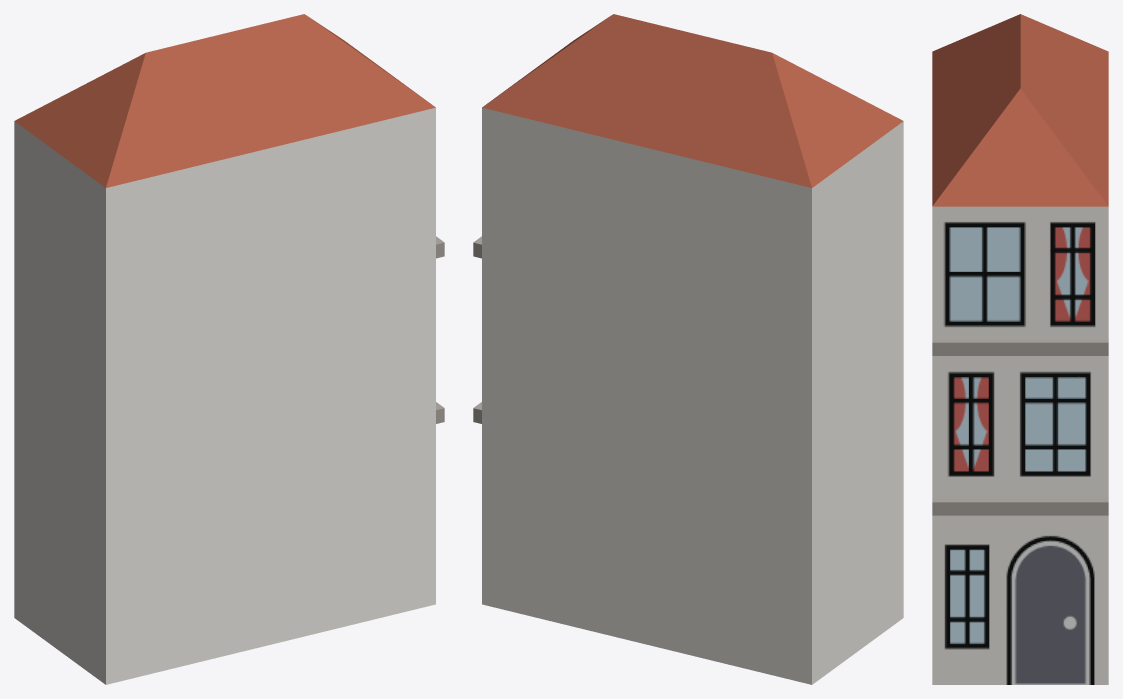
The model's file is StandaardHuis_Var1.fbx.
3 views of the same model, side by side, from view 1: azimuth 30°, elevation 25°; view 2: azimuth 150°, elevation 25°; view 3: azimuth 270°, elevation 25° (orthographic). The views are drawn at different scales.
Parts seen in each view (by area): view 1: StandaardHuis_Var1; view 2: StandaardHuis_Var1; view 3: StandaardHuis_Var1.
Part boxes in pixels (x1=…): StandaardHuis_Var1: x1=14, y1=14, x2=444, y2=684; StandaardHuis_Var1: x1=473, y1=14, x2=903, y2=684; StandaardHuis_Var1: x1=932, y1=14, x2=1108, y2=684.
Bounding box in the file's own units: 82.11 × 134 × 38.49.
1 material, 1 textured.
